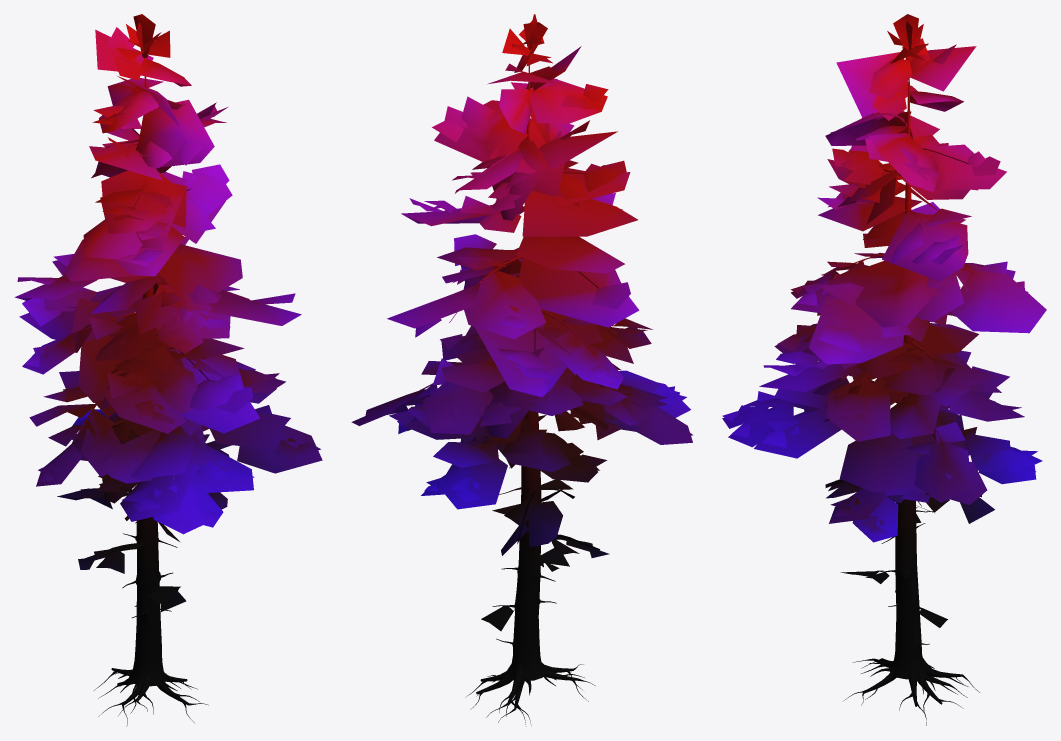
File: Fir_07_Forest.FBX
3 views of the same model, side by side, from view 1: azimuth 30°, elevation 25°; view 2: azimuth 150°, elevation 25°; view 3: azimuth 270°, elevation 25° (orthographic).
Visible parts, largest first — view 1: Fir_07_Forest_LOD0; view 2: Fir_07_Forest_LOD0; view 3: Fir_07_Forest_LOD0.
Part boxes in pixels (<box>): Fir_07_Forest_LOD0: <box>14,14,322,726</box>; Fir_07_Forest_LOD0: <box>351,14,692,726</box>; Fir_07_Forest_LOD0: <box>722,14,1046,725</box>.
Size of what is drawn, in the model's own units: 9438 by 21896 by 9422.
